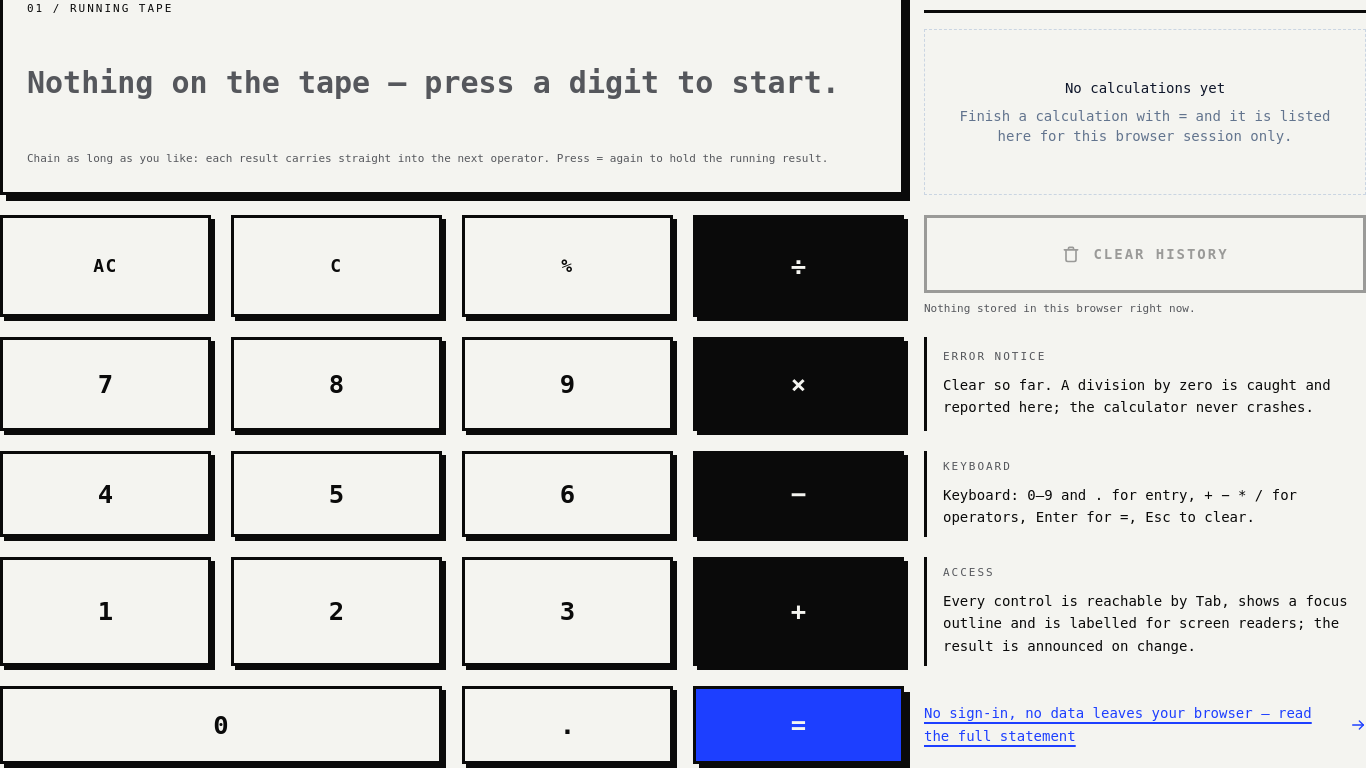
Test: Calculator screen › [AC-027] choosing clear history removes all entries and shows the empty state
(page scrolled)
What coordinates should you click on to do the following:
click the button "7"
I would click on:
 (106, 384)
Its box is x1=0 y1=337 x2=211 y2=431.
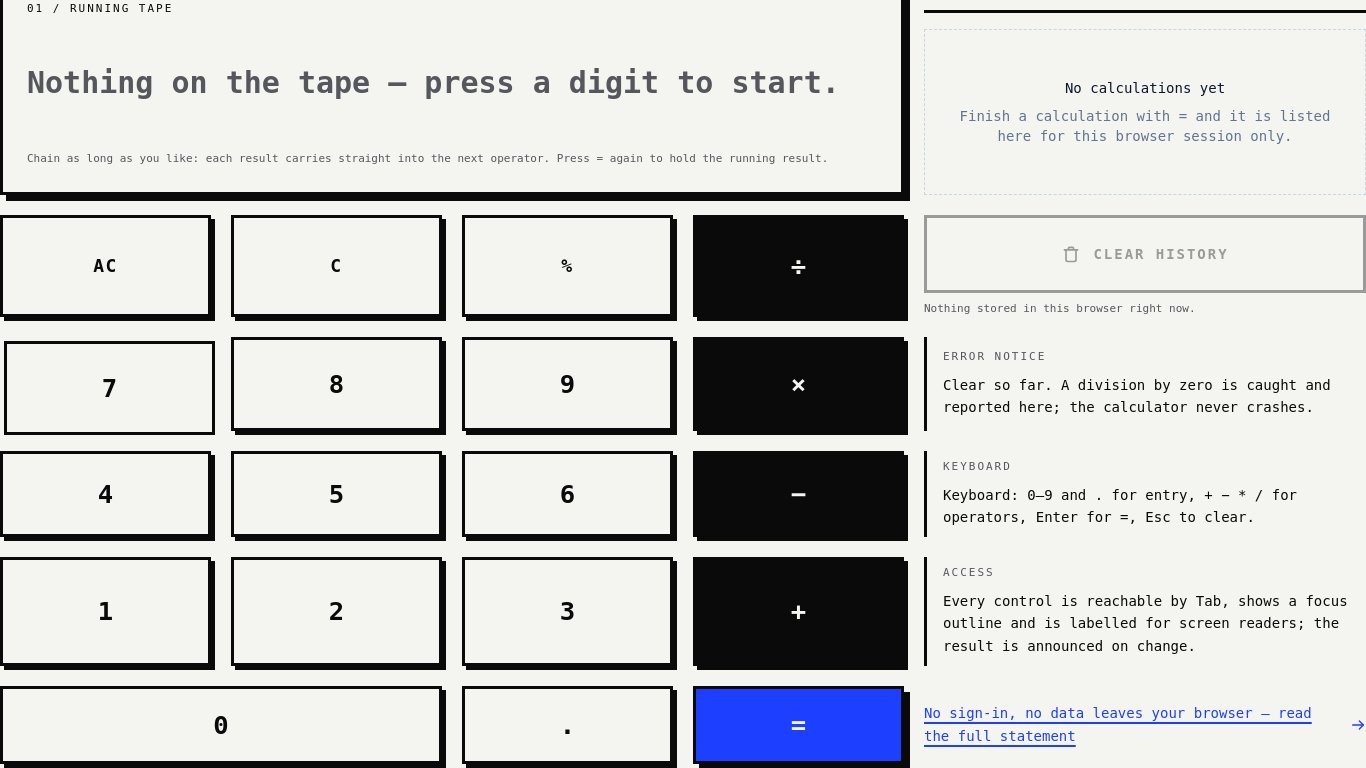
What coordinates should you click on to do the following:
click the button "×"
I would click on:
 (798, 384)
Its box is x1=693 y1=337 x2=904 y2=431.
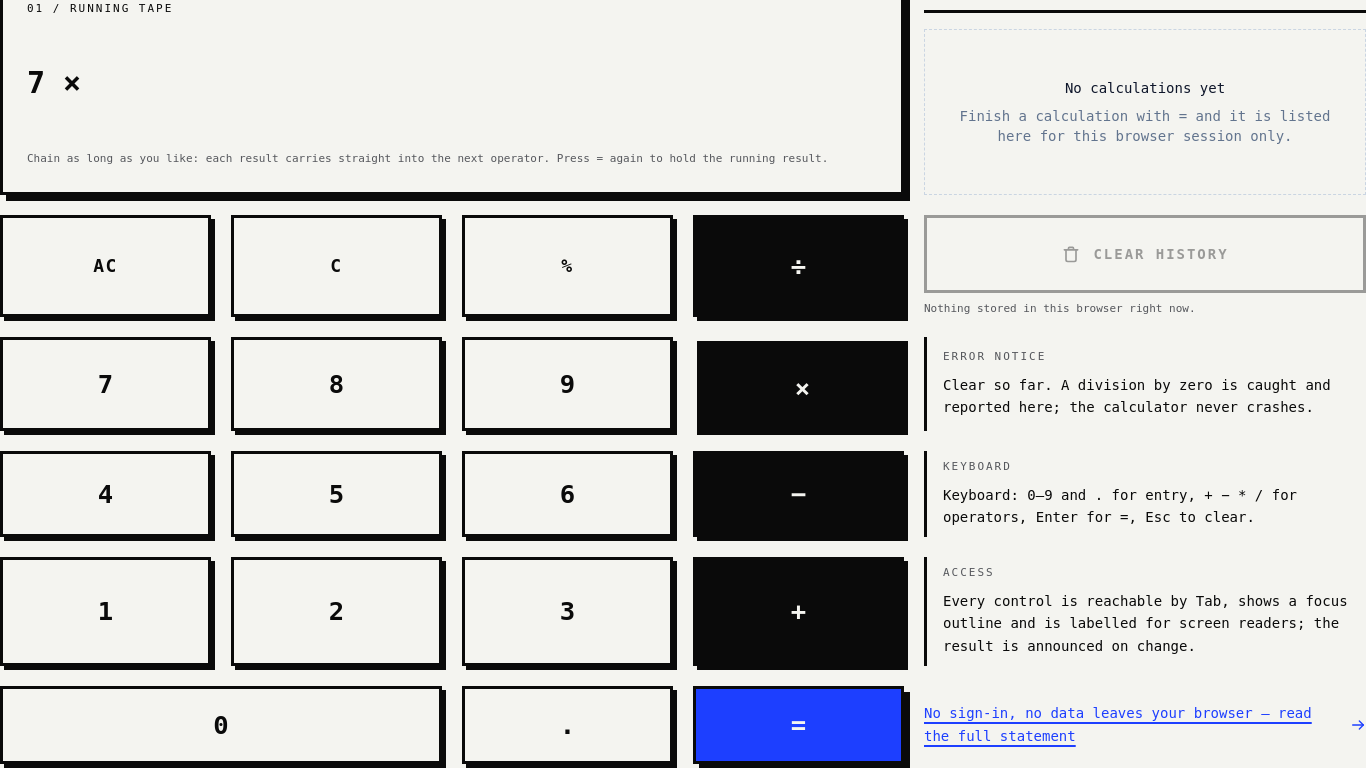
What coordinates should you click on to do the following:
click the button "8"
I would click on:
 (336, 384)
Its box is x1=231 y1=337 x2=442 y2=431.
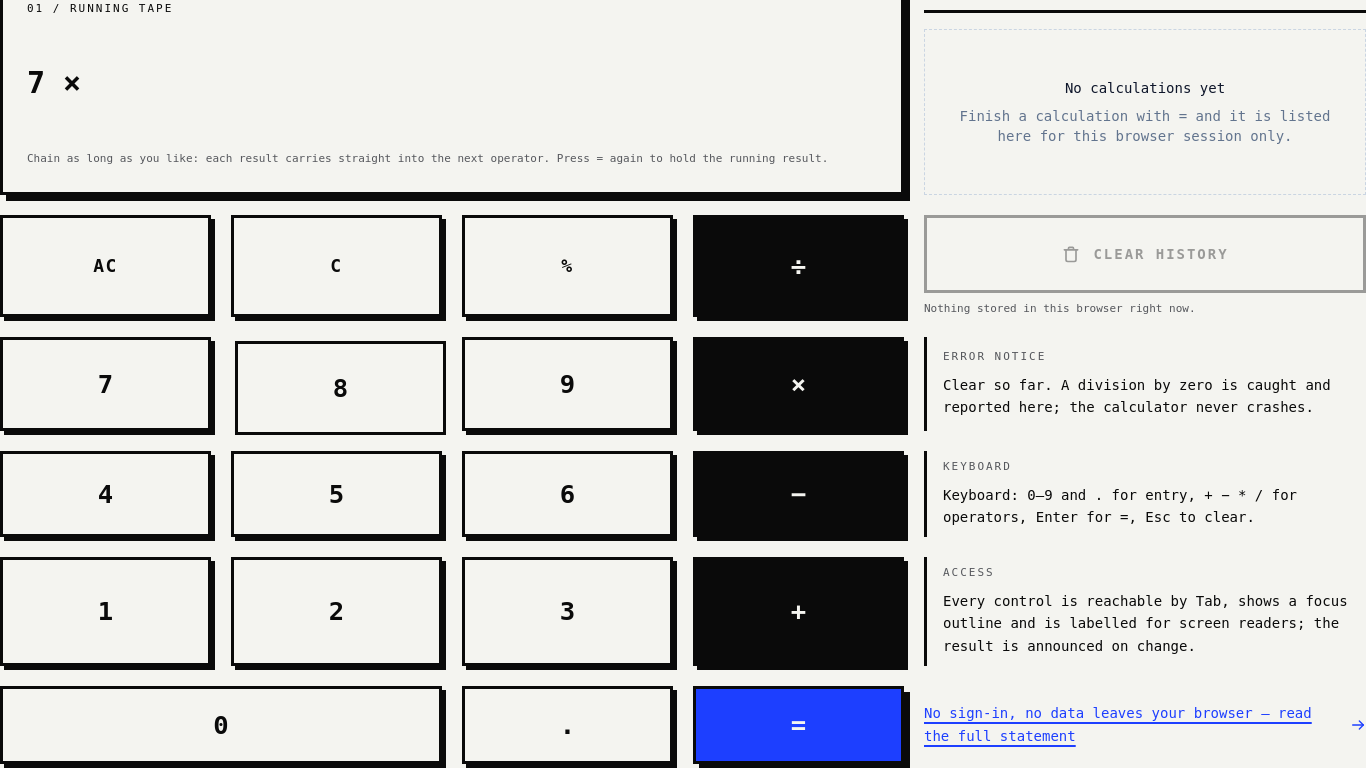
What coordinates should you click on to do the following:
click the button "="
I would click on:
 (798, 725)
Its box is x1=693 y1=686 x2=904 y2=764.
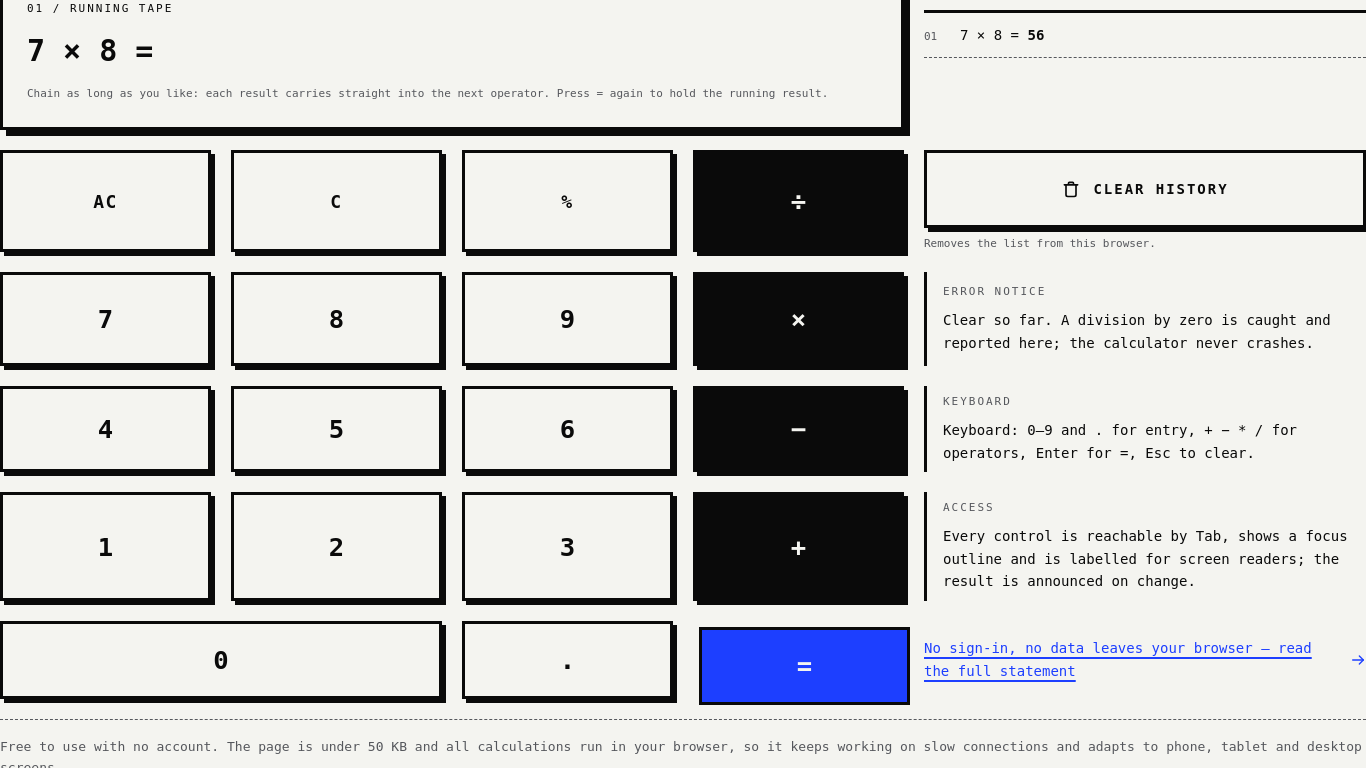
What coordinates should you click on to do the following:
click the button "Clear history"
I would click on:
 (1145, 189)
Its box is x1=924 y1=150 x2=1365 y2=228.
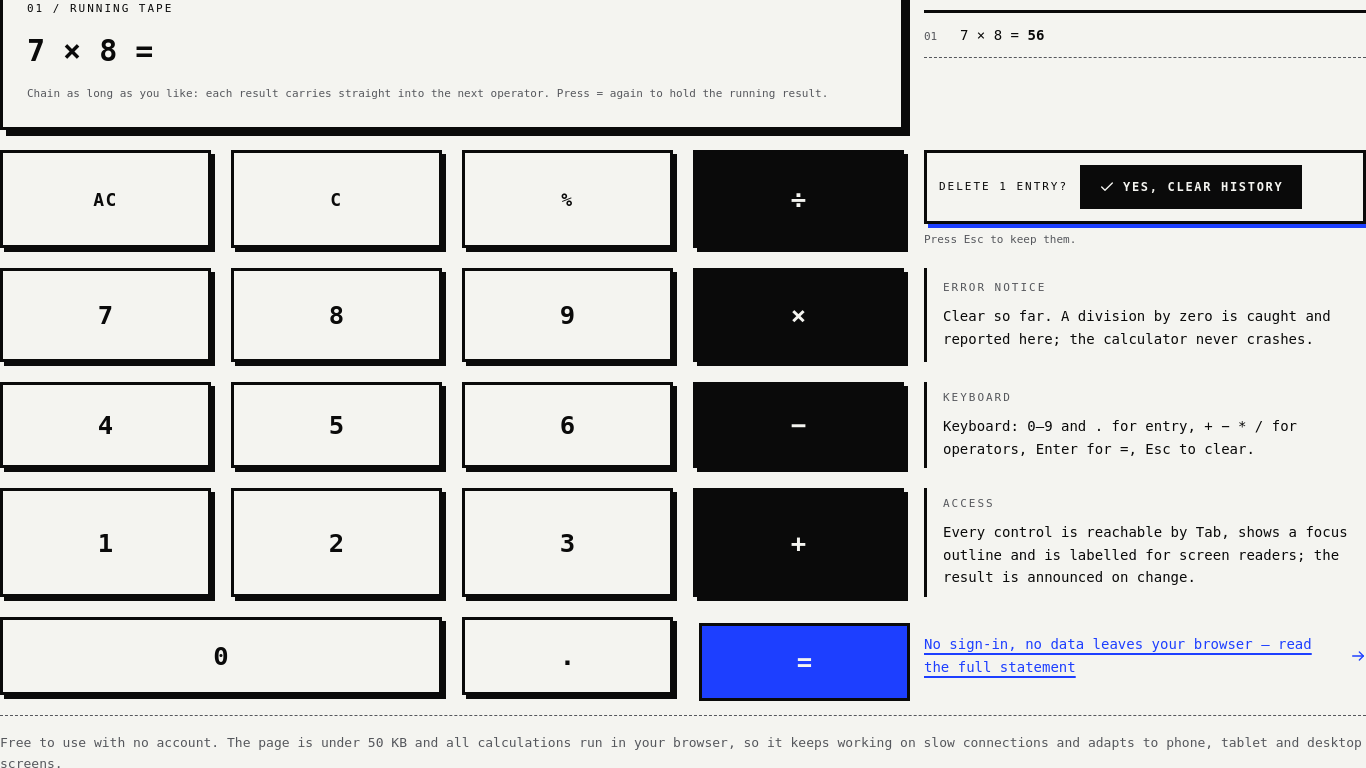
expect the text "Delete 1 entry?" is shown: met, box x1=939 y1=179 x2=1068 y2=195
What coordinates should you click on to do the following:
click the button "Yes, clear history"
I would click on:
 (1191, 187)
Its box is x1=1080 y1=165 x2=1302 y2=209.
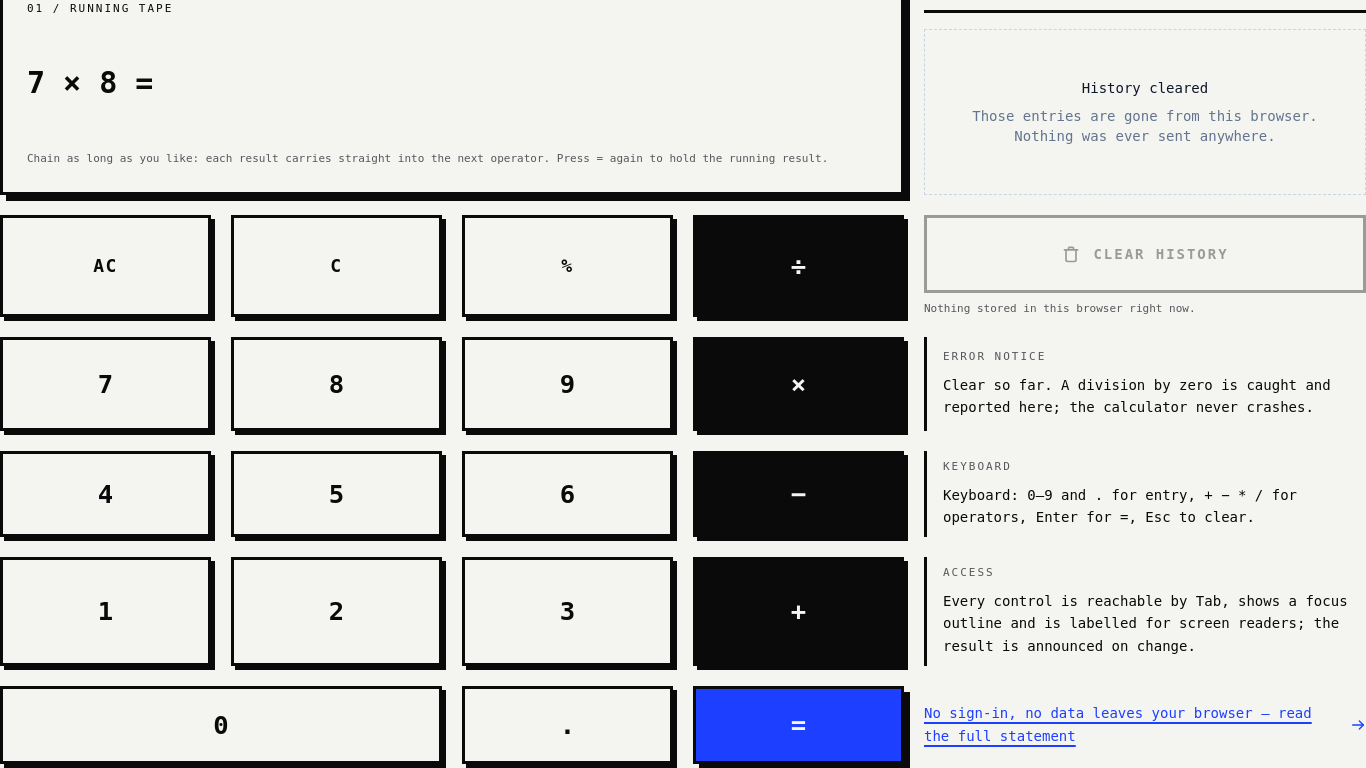
expect the text "History cleared" is shown: met, box x1=1082 y1=78 x2=1208 y2=98
